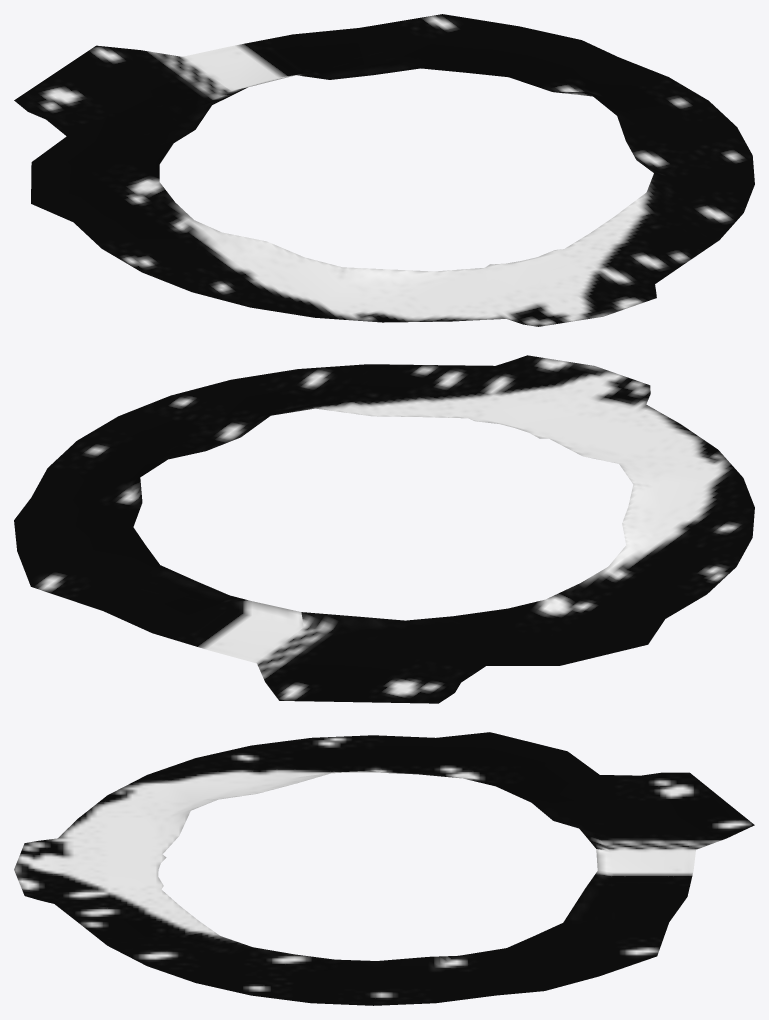
The model's file is yinzi05.obj.
The picture shows the model from 3 angles, top to bottom: view 1: azimuth 30°, elevation 25°; view 2: azimuth 150°, elevation 25°; view 3: azimuth 270°, elevation 25°; orthographic projection. The views are drawn at different scales.
Visible parts, largest first — view 1: yinzi05; view 2: yinzi05; view 3: yinzi05.
Boxes of the visible parts, x1,y1,x2,y2 form: yinzi05: [14, 14, 754, 326]; yinzi05: [14, 355, 754, 703]; yinzi05: [14, 732, 754, 1005].
Bounding box in the file's own units: 1439 × 20.3 × 1647.
